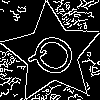Q: (27, 28, 87, 86)
